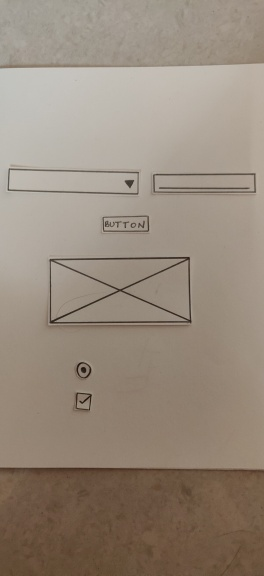button: (97, 210, 156, 234)
checkbox: (67, 392, 98, 415)
dropdown: (3, 165, 140, 198)
img: (41, 252, 196, 327)
radio: (72, 358, 97, 384)
text: (147, 174, 257, 189)
